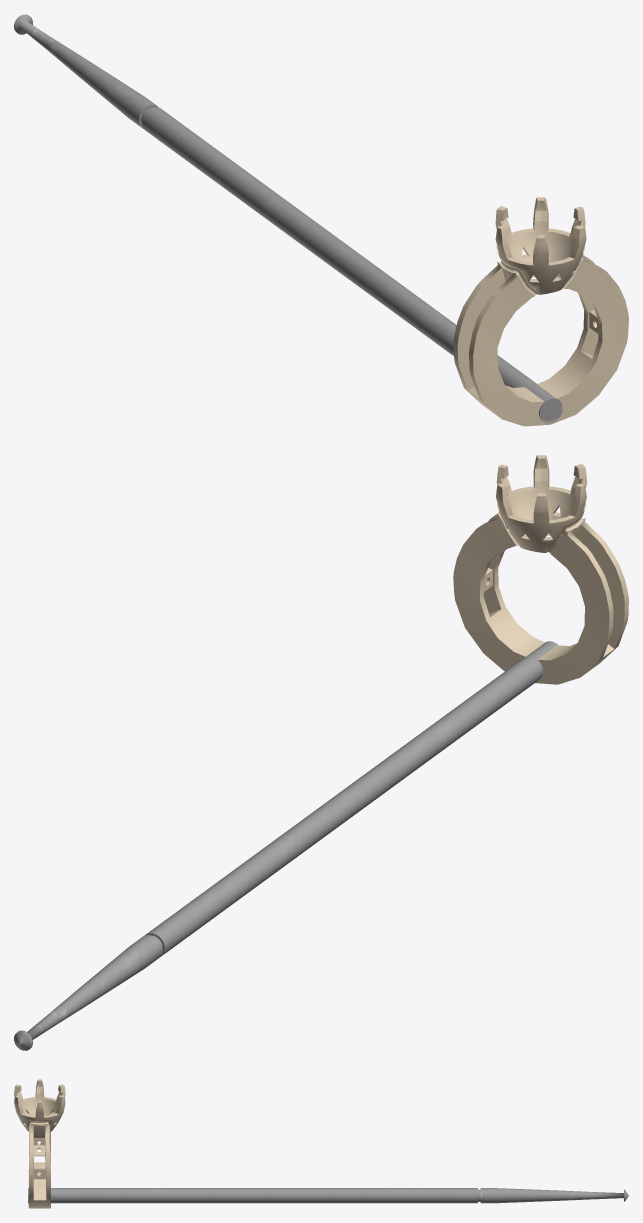
3 renders of one model, top to bottom at view 1: azimuth 30°, elevation 25°; view 2: azimuth 150°, elevation 25°; view 3: azimuth 270°, elevation 25°, orthographic. The views are drawn at different scales.
Visible parts, largest first — view 1: 404_XiangQian_YinJie, 404_XiangQian_FeiDieZhuanZhen; view 2: 404_XiangQian_YinJie, 404_XiangQian_FeiDieZhuanZhen; view 3: 404_XiangQian_FeiDieZhuanZhen, 404_XiangQian_YinJie.
Part boxes in pixels (<box>): 404_XiangQian_YinJie: <box>453,197,628,426</box>; 404_XiangQian_FeiDieZhuanZhen: <box>14,14,562,423</box>; 404_XiangQian_YinJie: <box>453,455,628,684</box>; 404_XiangQian_FeiDieZhuanZhen: <box>14,641,558,1050</box>; 404_XiangQian_FeiDieZhuanZhen: <box>28,1188,628,1203</box>; 404_XiangQian_YinJie: <box>14,1079,65,1208</box>.
Bounding box in the file's own units: 2.21 × 2.7 × 13.33.
1 material, 1 textured.
